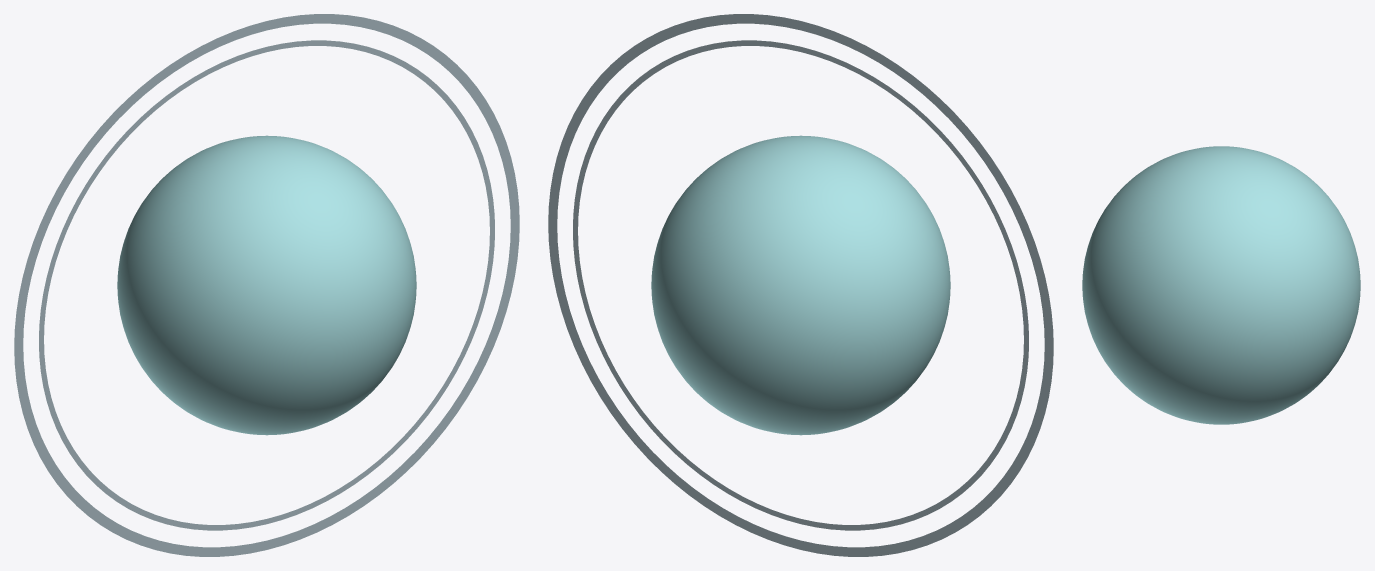
File: Planet_Uranus.glb
3 renders of one model, left to right at view 1: azimuth 30°, elevation 25°; view 2: azimuth 150°, elevation 25°; view 3: azimuth 270°, elevation 25°, orthographic. The views are drawn at different scales.
Visible parts, largest first — view 1: Planet_Uranus, Planet_Uranus_Ring_Main, Planet_Uranus_Ring_Inner; view 2: Planet_Uranus, Planet_Uranus_Ring_Main, Planet_Uranus_Ring_Inner; view 3: Planet_Uranus.
Boxes of the visible parts, x1=… form: Planet_Uranus: x1=117, y1=135, x2=416, y2=435; Planet_Uranus_Ring_Main: x1=14, y1=14, x2=519, y2=556; Planet_Uranus_Ring_Inner: x1=39, y1=40, x2=494, y2=530; Planet_Uranus: x1=651, y1=135, x2=950, y2=435; Planet_Uranus_Ring_Main: x1=548, y1=14, x2=1053, y2=556; Planet_Uranus_Ring_Inner: x1=573, y1=40, x2=1028, y2=530; Planet_Uranus: x1=1082, y1=146, x2=1360, y2=424.
Bounding box in the file's own units: 3.9 × 3.9 × 2.
